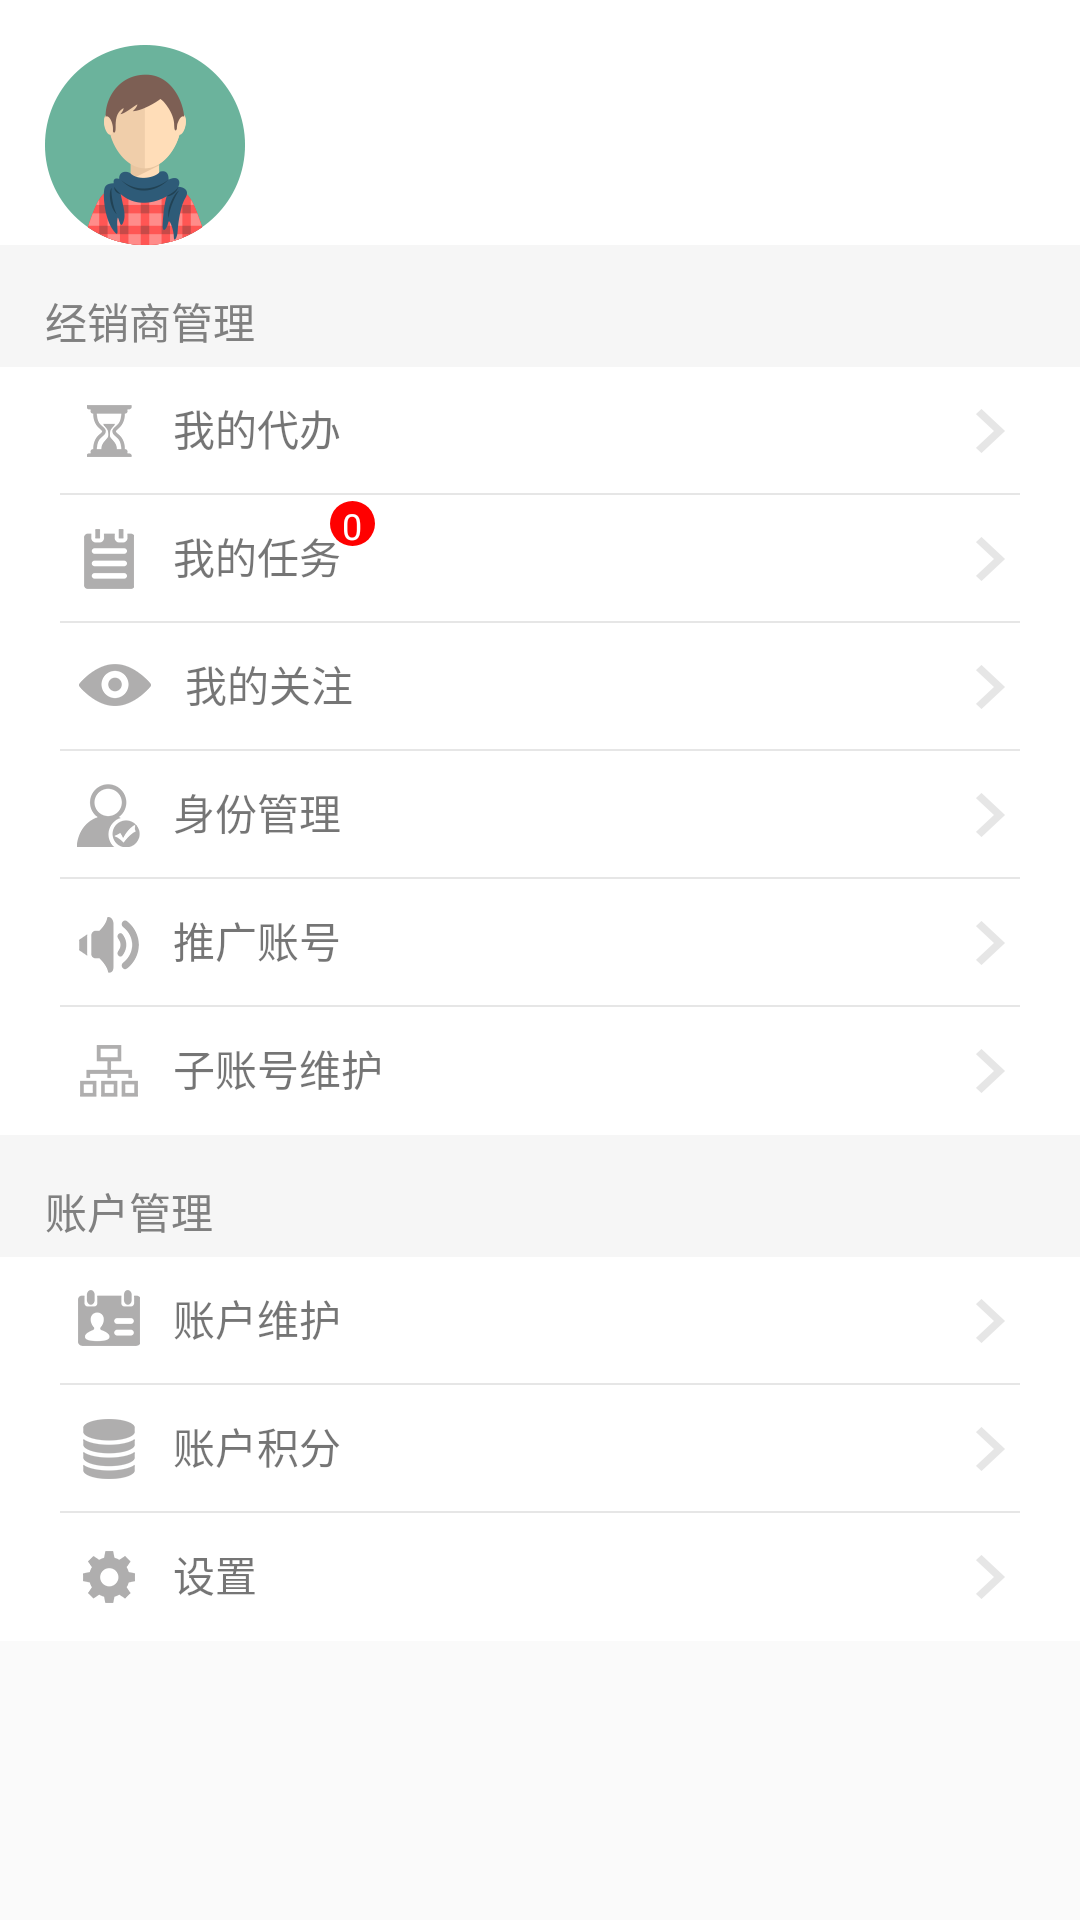

Icons on this 1080 × 1920 Android screen, each with the point to tap as (x,y):
pic facilitator: (145,145)
